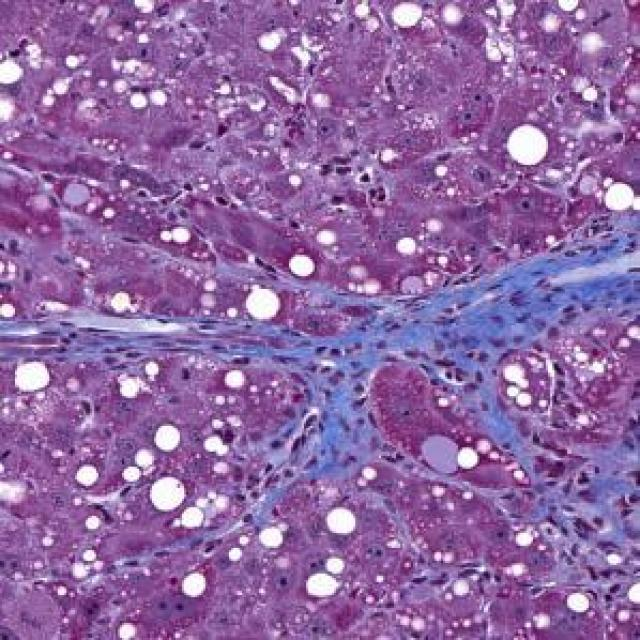fibrosis: (287, 266, 544, 460), (501, 430, 631, 604), (498, 210, 636, 338)
